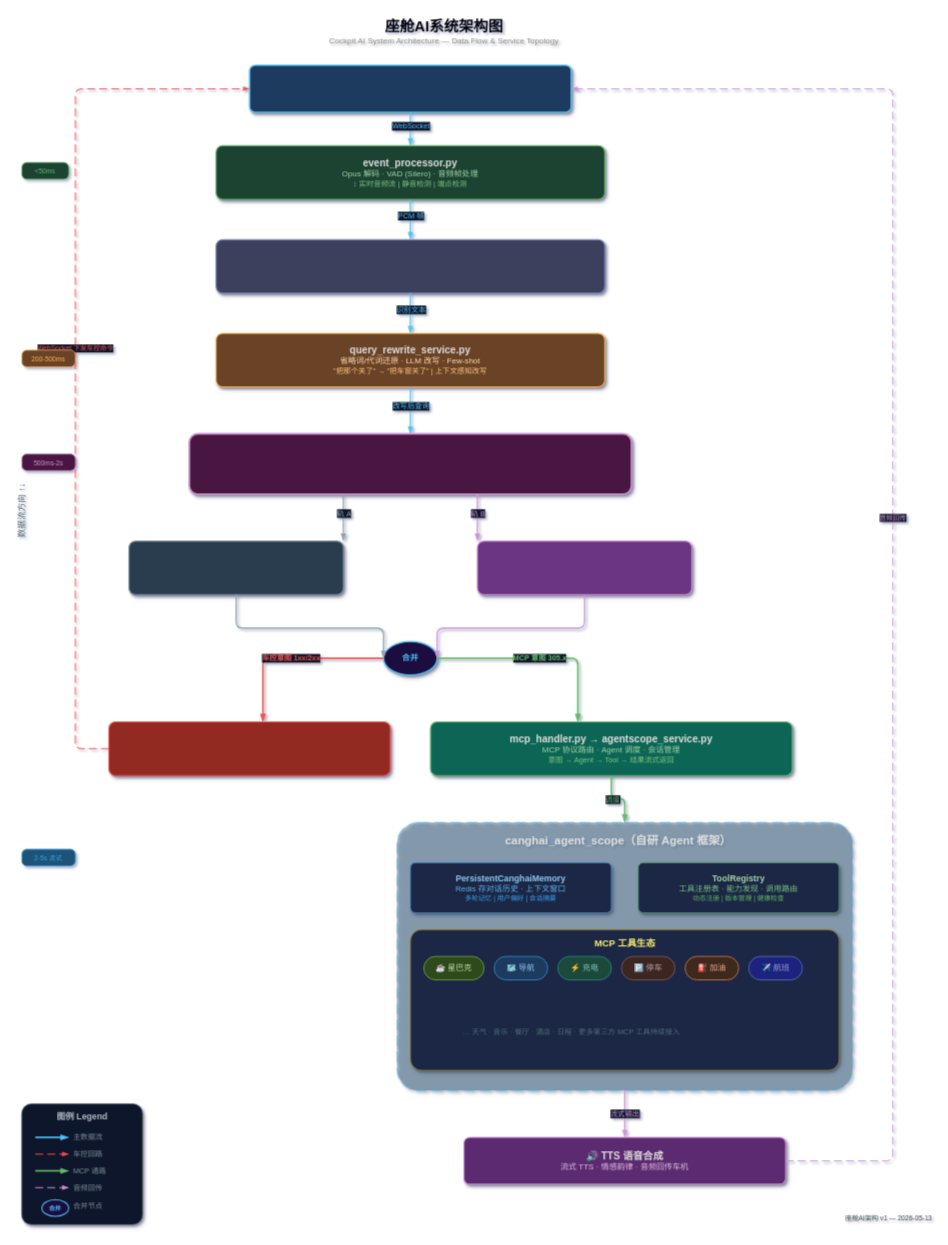
The diagram is 948 pixels wide and 1245 high, and some of its shapes have lost their labels. Each missing label, with the centre of its shape:
"asr_module.py FunASR (SenseVoice 流式) · 标点恢复 (ct-punc) 流式识别 → 增量文本 → 标点补全" belongs at (411,267).
"llm_nlu_parallel_service.py LLM-NLU ReAct Agent · 结构化输出" belongs at (585,569).
"nlu_service.py 传统规则 NLU 正则匹配 · 关键词 · 外部 API" belongs at (236,569).
"vehicle_handler.py 车控命令解析 · 参数校验 · 安全校验 空调 / 车窗 / 座椅 / 后视镜 / 驾驶模式" belongs at (249,749).
"⚡ nlu_orchestrator.py 双轨路由核心 — 并行调度 · 结果合并 置信度加权 | 意图冲突消解 | 低延迟优先" belongs at (410,464).
"🚗 车机 HMI WebSocket 通道 — Opus 音频 + JSON 消息" belongs at (411,89).
